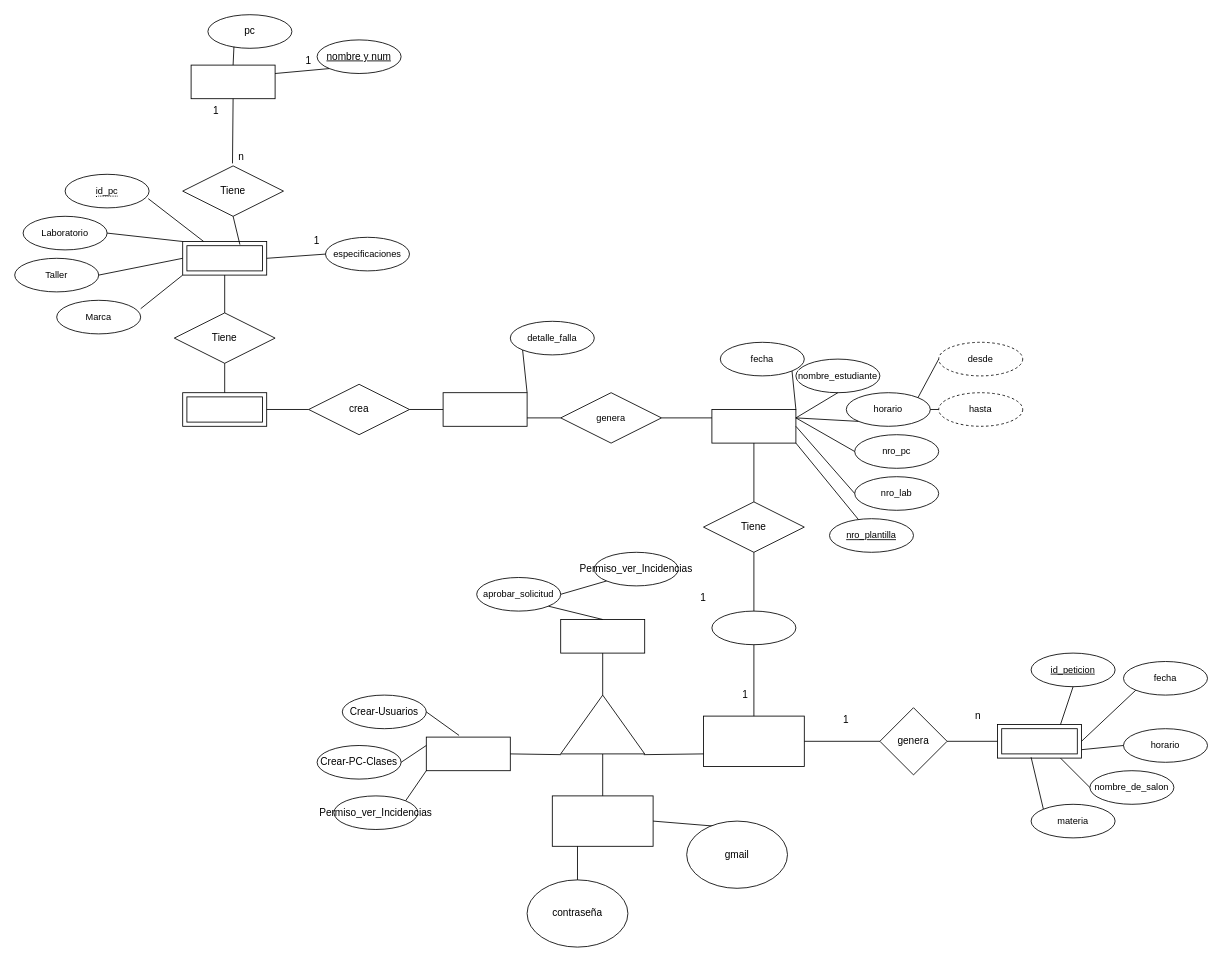
Image size: 1222x962. Some labels were removed from this diagram. The centre of each missing label's shape, as x and y in pixels:
"Administrador" belongs at [467,753].
"Clase" belongs at [232,81].
"Equipos" belongs at [224,258].
"genera_registro" belongs at [753,627].
"Incidencia" belongs at [224,409].
"persona" belongs at [602,820].
"problema" belongs at [484,409].
"profesor" belongs at [753,740].
"RegistroPrestamos" belongs at [753,426].
"solicitud_clase" belongs at [1039,741].
"SoporteTecnico" belongs at [602,636].
